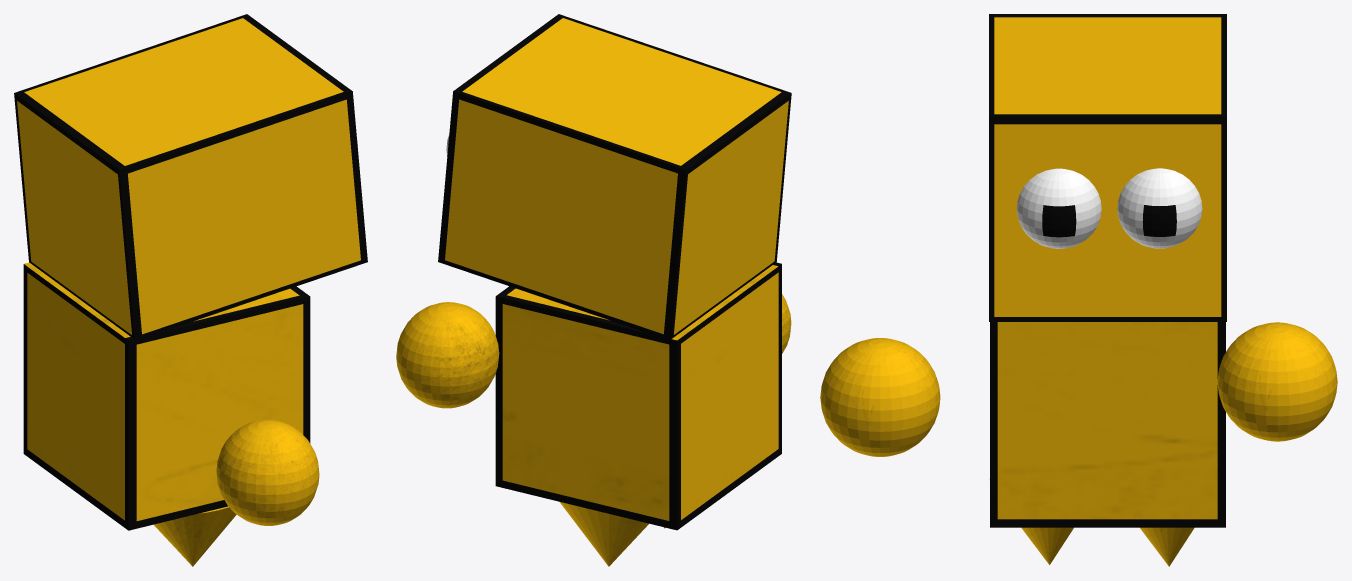
The model's file is kyarakiiro.fbx.
3 views of the same model, side by side, from view 1: azimuth 30°, elevation 25°; view 2: azimuth 150°, elevation 25°; view 3: azimuth 270°, elevation 25° (orthographic). The views are drawn at different scales.
Parts seen in each view (by area): view 1: 球.007; view 2: 球.007; view 3: 球.007.
Part boxes in pixels (bbox=[...]): 球.007: bbox=[14, 14, 367, 566]; 球.007: bbox=[396, 14, 791, 566]; 球.007: bbox=[820, 14, 1337, 566].
Bounding box in the file's own units: 291 × 487 × 438.
